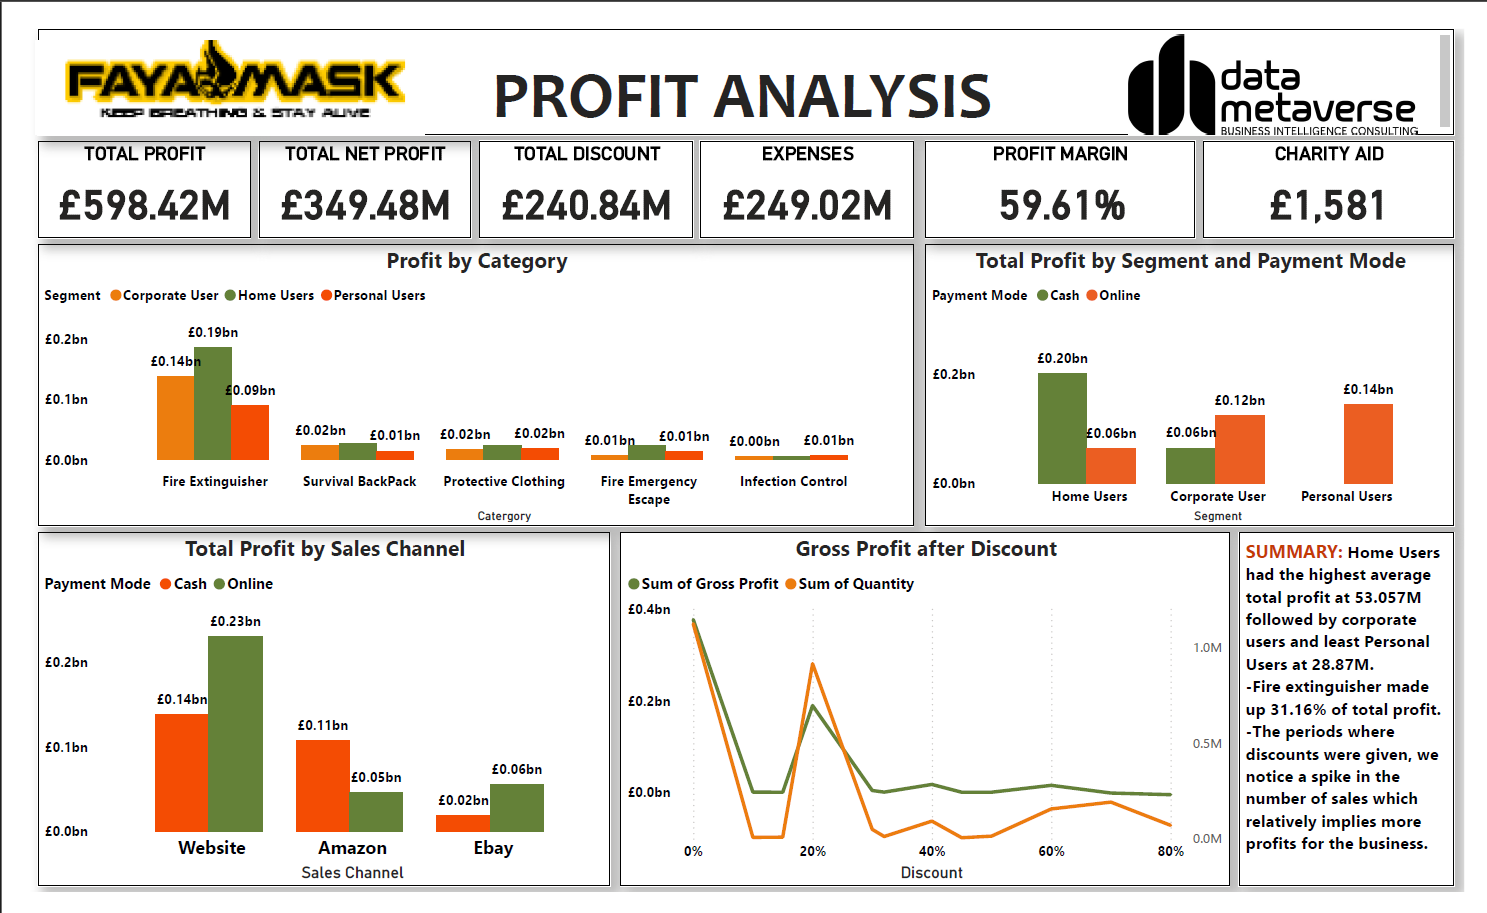

This screenshot's page, from the dashboard's own definition file:
{"tool":"powerbi","page":{"name":"Profit Analysis","canvas":[1280,770],"ordinal":3},"visuals":[{"type":"clusteredColumnChart","title":"Total Profit by Sales Channel","fields":{"Y":["Sum(Faya Mask data.Profit)"],"Category":["Faya Mask data.Sales Channel"],"Series":["Faya Mask data.Payment Mode"]},"box":[6.8,448.7,511.6,316.2],"z":0},{"type":"clusteredColumnChart","title":"Profit by Category","fields":{"Y":["Sum(Faya Mask data.Profit)"],"Category":["Faya Mask data.Catergory"],"Series":["Faya Mask data.Segment"]},"box":[6.8,192.1,781.9,251.6],"z":1000},{"type":"card","title":"TOTAL PROFIT","fields":{"Values":["Faya Mask data.Total Profit"]},"box":[6.8,100.3,190.4,86.7],"z":2000},{"type":"card","title":"TOTAL NET PROFIT","fields":{"Values":["Sum(Faya Mask data.Net Profit)"]},"box":[204,100.3,190.4,86.7],"z":3000},{"type":"clusteredColumnChart","title":"Total Profit by Segment and Payment Mode","fields":{"Category":["Faya Mask data.Segment"],"Y":["Sum(Faya Mask data.Gross Profit)"],"Series":["Faya Mask data.Payment Mode"]},"box":[798.9,192.1,472.5,251.6],"z":4000},{"type":"lineChart","title":"Gross Profit after Discount","fields":{"Category":["Faya Mask data.Discount"],"Y":["Sum(Faya Mask data.Gross Profit)"],"Y2":["Sum(Faya Mask data.Quantity)"]},"box":[526.9,448.7,543.9,316.2],"z":5000},{"type":"textbox","title":"SALES ANALYSIS","box":[6.8,0,1264.3,95.2],"z":6000},{"type":"textbox","box":[1079.4,448.7,192.1,316.2],"z":7000},{"type":"card","title":"TOTAL DISCOUNT","fields":{"Values":["Faya Mask data.Total Discount"]},"box":[401.1,100.3,190.4,86.7],"z":8000},{"type":"card","title":"EXPENSES","fields":{"Values":["Faya Mask data.Expenses"]},"box":[598.3,100.3,190.4,86.7],"z":9000},{"type":"card","title":"PROFIT MARGIN","fields":{"Values":["Faya Mask data.Profit Margin"]},"box":[798.9,100.3,241.4,86.7],"z":10000},{"type":"card","title":"CHARITY AID","fields":{"Values":["Sum(Faya Mask data.Charity Aid)"]},"box":[1047.1,100.3,224.4,86.7],"z":11000},{"type":"image","box":[0,5.1,357,93.5],"z":12000},{"type":"image","box":[946.8,0,324.7,98.6],"z":13000}]}

Visuals, with their boxes in screenshot pixels (x1, y1, x2, y2), scaled from the page's 1280x770 canvas onto the 1487x913 screenshot:
"Total Profit by Sales Channel" clusteredColumnChart: BBox(8, 532, 602, 907)
"Profit by Category" clusteredColumnChart: BBox(8, 228, 916, 526)
"TOTAL PROFIT" card: BBox(8, 119, 229, 222)
"TOTAL NET PROFIT" card: BBox(237, 119, 458, 222)
"Total Profit by Segment and Payment Mode" clusteredColumnChart: BBox(928, 228, 1477, 526)
"Gross Profit after Discount" lineChart: BBox(612, 532, 1244, 907)
"SALES ANALYSIS" textbox: BBox(8, 0, 1477, 113)
textbox: BBox(1254, 532, 1477, 907)
"TOTAL DISCOUNT" card: BBox(466, 119, 687, 222)
"EXPENSES" card: BBox(695, 119, 916, 222)
"PROFIT MARGIN" card: BBox(928, 119, 1209, 222)
"CHARITY AID" card: BBox(1216, 119, 1477, 222)
image: BBox(0, 6, 415, 117)
image: BBox(1100, 0, 1477, 117)
